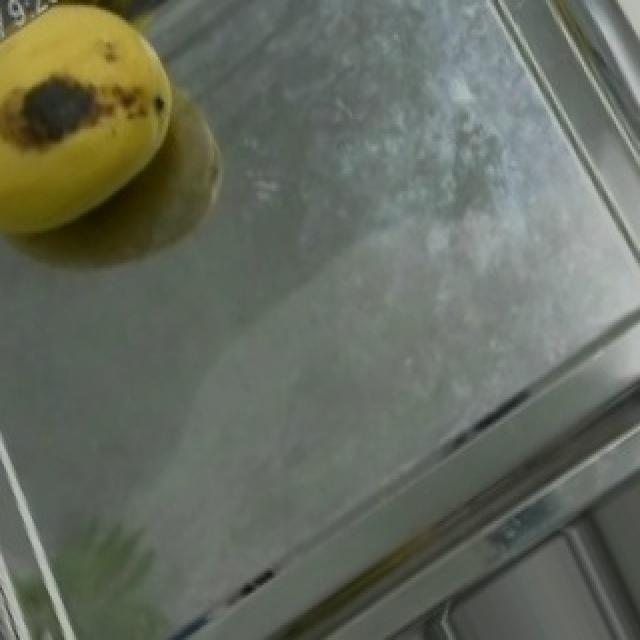fruit: (0, 2, 210, 283)
